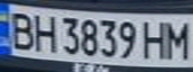3: (96, 17, 121, 59), (57, 13, 81, 55)
8: (78, 16, 100, 57)
9: (115, 17, 142, 60)
B: (3, 8, 39, 51)
H: (139, 18, 172, 61), (30, 11, 60, 53)
M: (163, 18, 193, 61)
